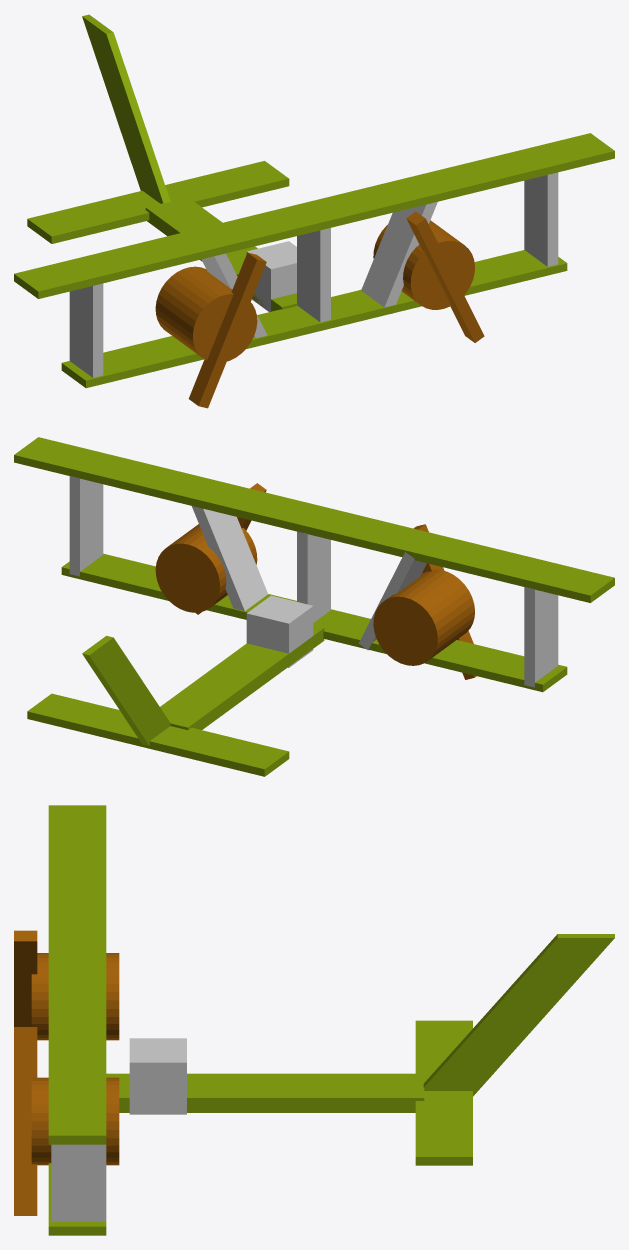
3 renders of one model, top to bottom at view 1: azimuth 30°, elevation 25°; view 2: azimuth 150°, elevation 25°; view 3: azimuth 270°, elevation 25°, orthographic. The views are drawn at different scales.
Parts seen in each view (by area): view 1: Cube.002, 柱体.001, Cube.001, Cube.003, Cube.004, 立方体.004, 立方体, 立方体.001, 立方体.003, Cube, 立方体.005_立方体.006, 立方体.002; view 2: Cube.002, 柱体.001, Cube.001, Cube.003, Cube, Cube.004, 立方体.004, 立方体.005_立方体.006, 立方体, 立方体.001, 立方体.003, 立方体.002; view 3: Cube.002, 柱体.001, Cube, Cube.004, Cube.003, 立方体.005_立方体.006, 立方体, Cube.001.
Boxes of the visible parts, x1,y1,x2,y2 form: Cube.002: [14, 133, 614, 298]; 柱体.001: [155, 211, 484, 408]; Cube.001: [61, 250, 567, 388]; Cube.003: [27, 161, 289, 243]; Cube.004: [82, 14, 170, 203]; 立方体.004: [361, 201, 437, 313]; 立方体: [524, 172, 558, 266]; 立方体.001: [69, 283, 103, 377]; 立方体.003: [297, 228, 330, 322]; Cube: [145, 197, 297, 311]; 立方体.005_立方体.006: [246, 241, 296, 311]; 立方体.002: [201, 253, 266, 337]; Cube.002: [14, 437, 614, 602]; 柱体.001: [155, 483, 476, 679]; Cube.001: [61, 553, 567, 692]; Cube.003: [27, 693, 289, 776]; Cube: [160, 625, 324, 730]; Cube.004: [82, 635, 170, 745]; 立方体.004: [192, 506, 267, 611]; 立方体.005_立方体.006: [246, 595, 313, 667]; 立方体: [69, 476, 103, 576]; 立方体.001: [524, 587, 558, 687]; 立方体.003: [297, 531, 330, 622]; 立方体.002: [358, 552, 426, 650]; Cube.002: [48, 805, 106, 1144]; 柱体.001: [14, 930, 119, 1215]; Cube: [106, 1073, 424, 1112]; Cube.004: [423, 934, 614, 1096]; Cube.003: [415, 1020, 472, 1165]; 立方体.005_立方体.006: [129, 1038, 186, 1114]; 立方体: [51, 1144, 106, 1221]; Cube.001: [48, 1163, 106, 1235].
Size of the model in its own units: 27.26 by 7.82 by 20.95.
